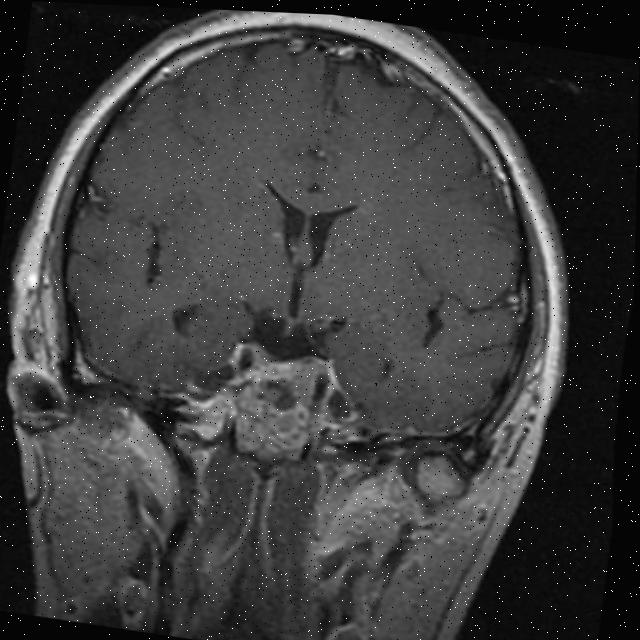Pituitary: (232, 337, 325, 468)
